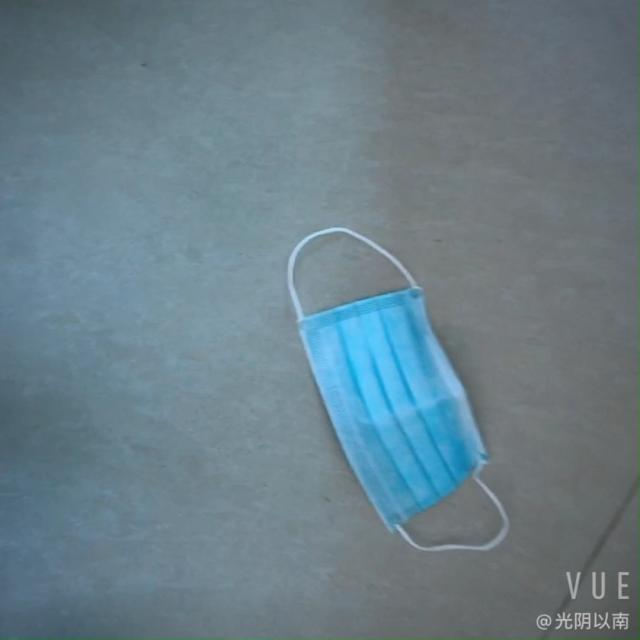non-organic waste: (291, 274, 493, 528)
